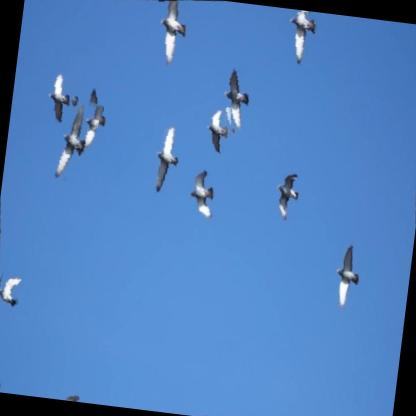bird: (49, 95, 101, 187), (144, 121, 191, 201), (213, 62, 259, 136), (327, 239, 369, 313), (150, 0, 195, 68), (72, 81, 113, 149), (284, 9, 328, 68), (39, 70, 77, 129), (183, 167, 221, 224), (267, 168, 304, 225), (200, 105, 235, 158), (0, 267, 26, 313), (57, 388, 85, 402)
